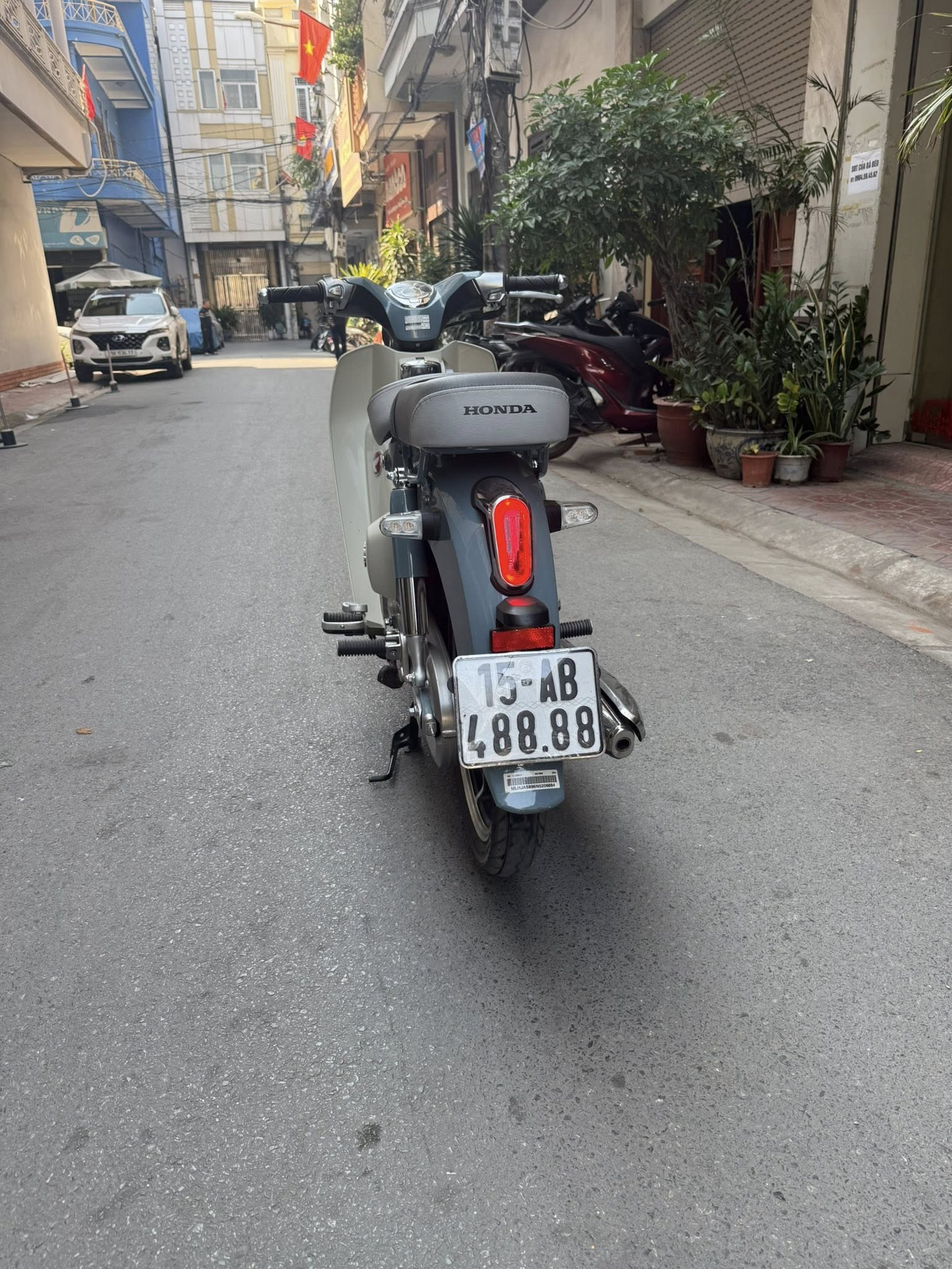bien_so: (446, 639, 608, 779)
